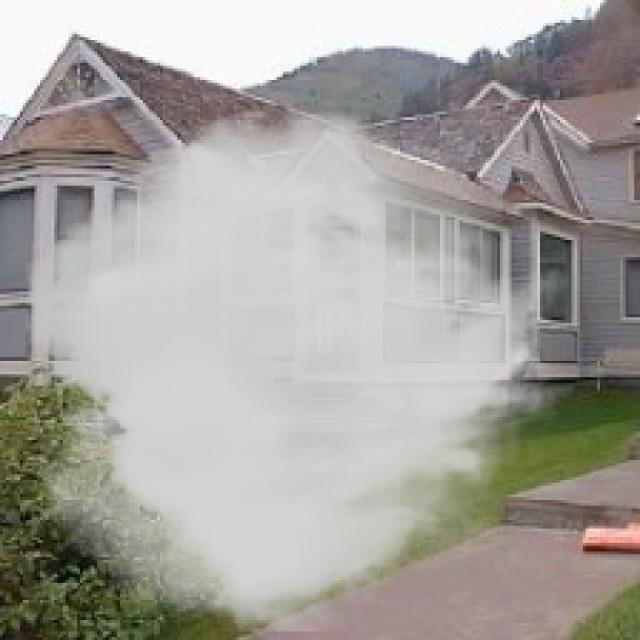smoke: (26, 103, 571, 631)
